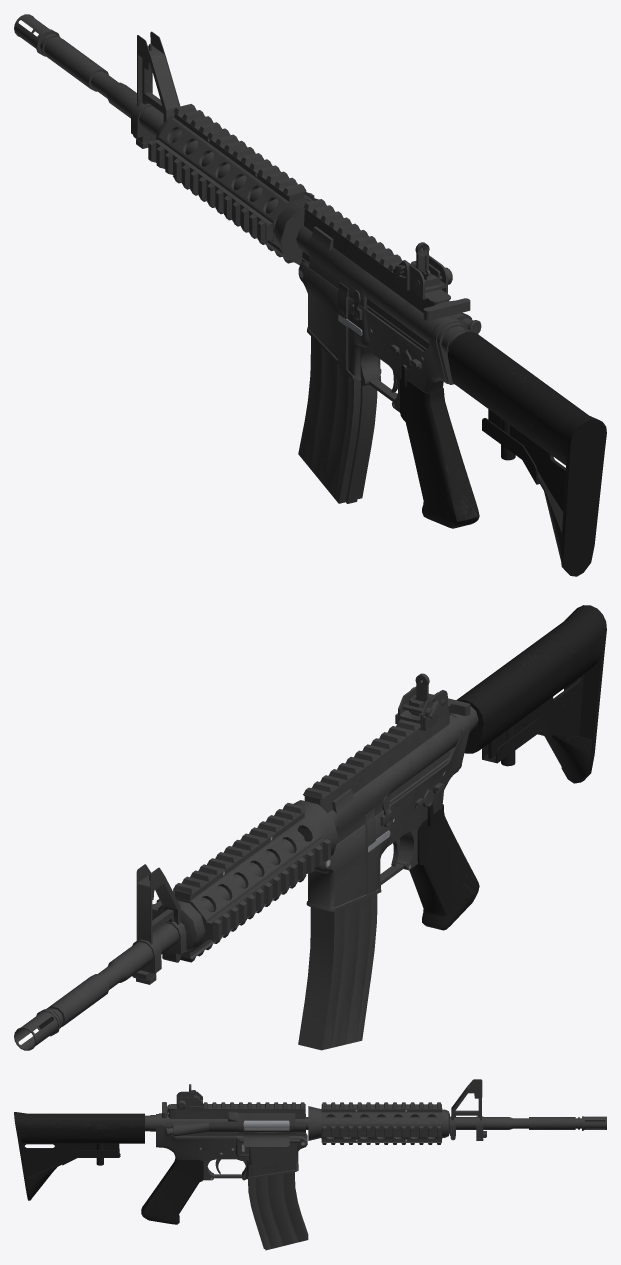
File: fusil.glb
3 views of the same model, one above another, from view 1: azimuth 30°, elevation 25°; view 2: azimuth 150°, elevation 25°; view 3: azimuth 270°, elevation 25° (orthographic). The views are drawn at different scales.
Visible parts, largest first — view 1: Base, Barrel, Stock, Magazine, Sight; view 2: Base, Barrel, Stock, Magazine, Sight; view 3: Base, Barrel, Stock, Magazine, Ejector_Lid, Sight, Ejector.
Part boxes in pixels (<box>): Base: <box>296,199,481,528</box>; Barrel: <box>14,14,318,265</box>; Stock: <box>441,326,606,576</box>; Magazine: <box>298,336,377,503</box>; Sight: <box>395,242,447,299</box>; Base: <box>303,702,479,930</box>; Barrel: <box>14,800,338,1050</box>; Stock: <box>456,605,606,783</box>; Magazine: <box>298,894,377,1050</box>; Sight: <box>395,673,447,730</box>; Base: <box>141,1102,307,1224</box>; Barrel: <box>306,1079,606,1144</box>; Stock: <box>14,1112,155,1200</box>; Magazine: <box>248,1172,308,1250</box>; Ejector_Lid: <box>237,1132,296,1146</box>; Sight: <box>176,1084,202,1111</box>; Ejector: <box>243,1120,289,1128</box>.
Size of the model in its own units: 0.0636 by 0.2663 by 0.8588.
1 material, 1 textured.
